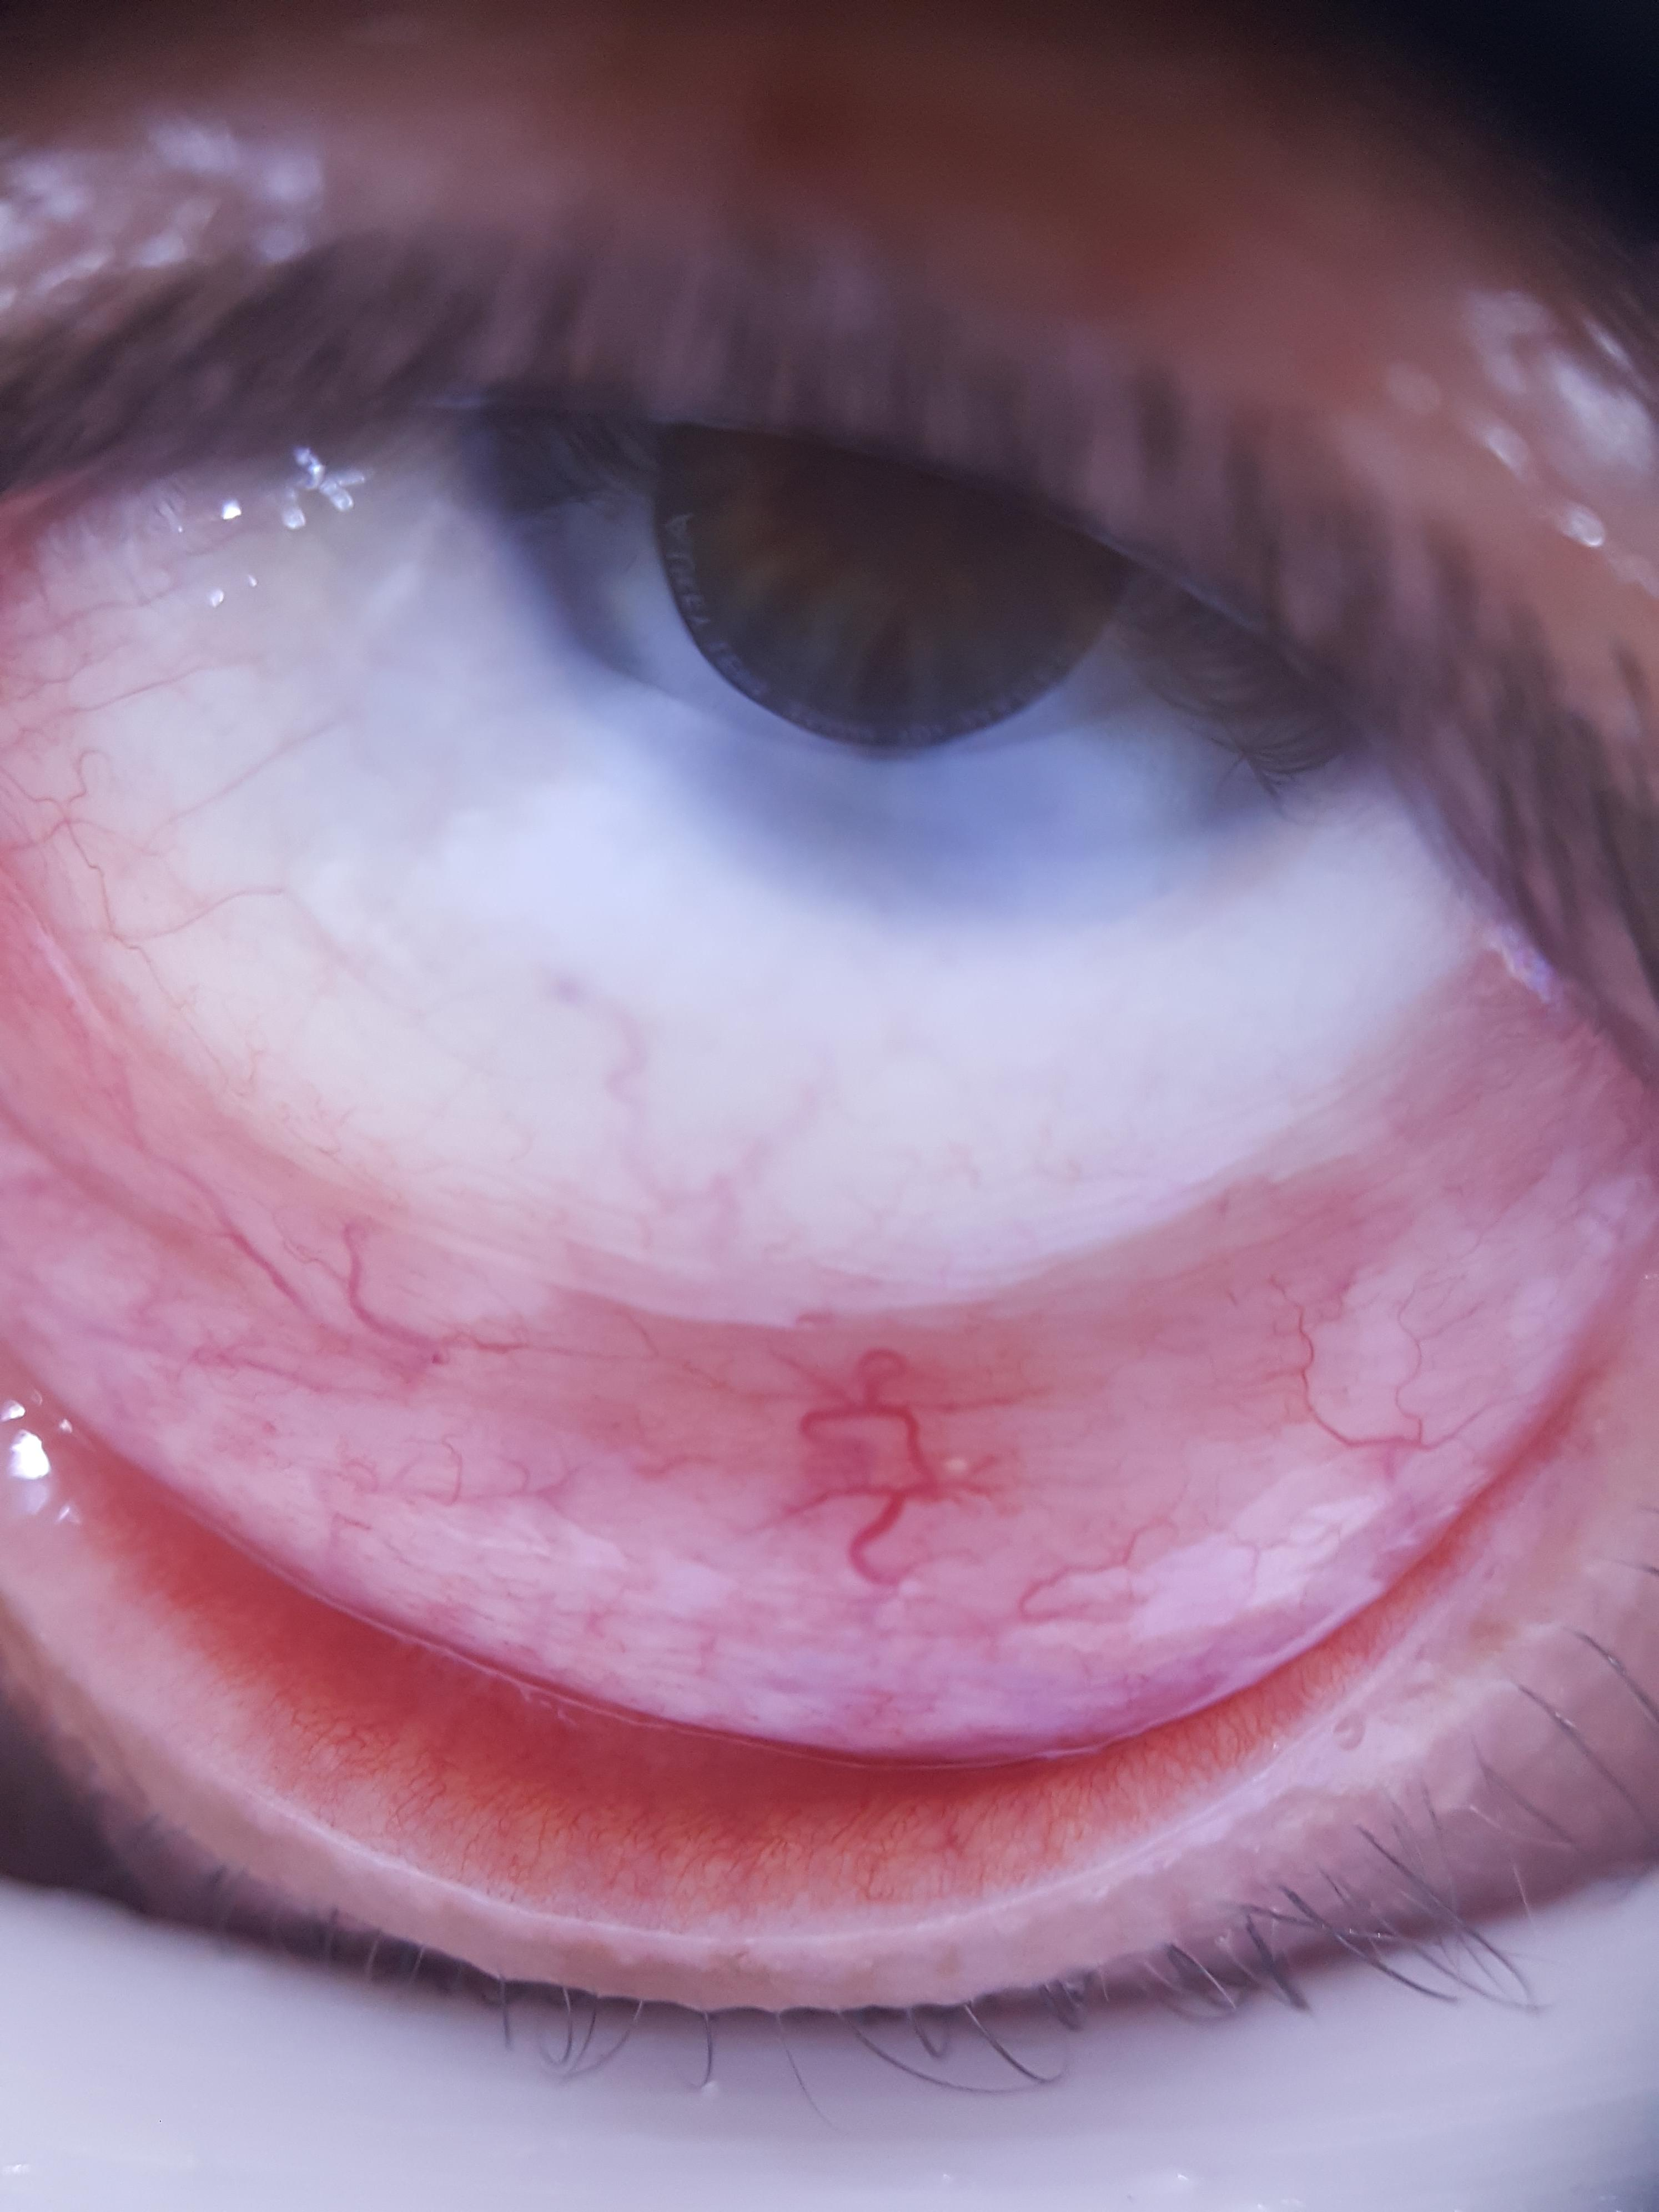forniceal: (0, 885, 1657, 1757)
forniceal_palpebral: (3, 885, 1659, 1897)
palpebral: (9, 1352, 1568, 1890)
